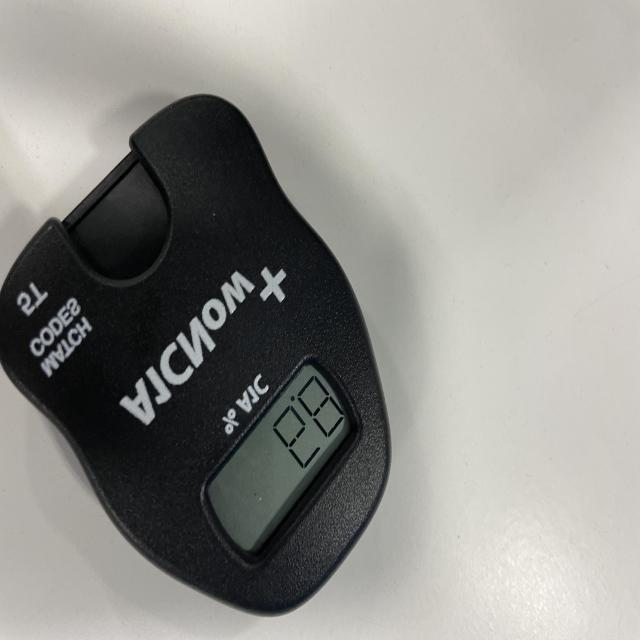hba1c: (0, 94, 393, 619)
